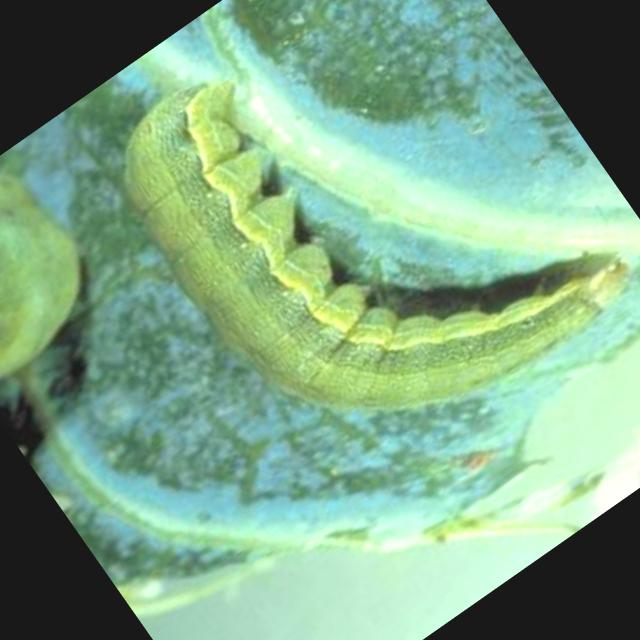Beet armyworm: (66, 0, 640, 538), (0, 129, 166, 429)
